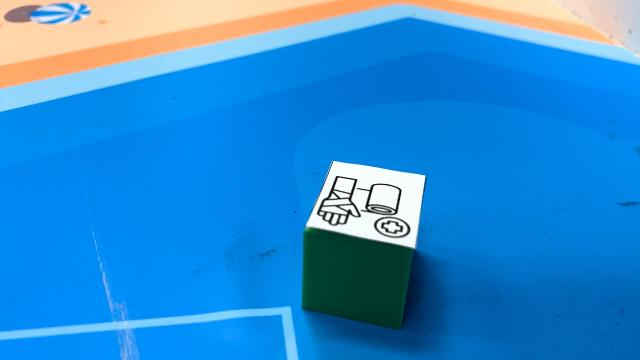bandage: (300, 158, 428, 330)
